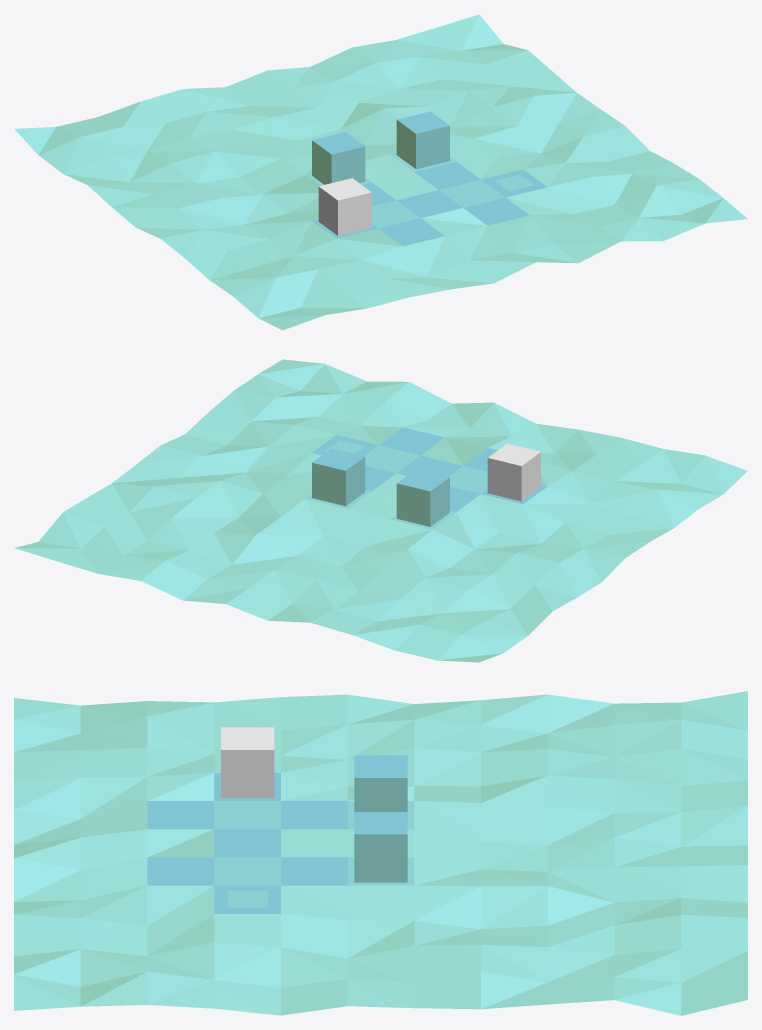
The model's file is Level76.dae.
3 views of the same model, one above another, from view 1: azimuth 30°, elevation 25°; view 2: azimuth 150°, elevation 25°; view 3: azimuth 270°, elevation 25° (orthographic). The views are drawn at different scales.
Visible parts, largest first — view 1: surface, Blocky, Enemy1, Enemy0; view 2: surface, Enemy0, Blocky, Enemy1; view 3: surface, Blocky, Enemy1, Enemy0.
Boxes of the visible parts, bbox=[...] form: surface: bbox=[14, 14, 747, 330]; Blocky: bbox=[318, 178, 371, 235]; Enemy1: bbox=[396, 111, 449, 169]; Enemy0: bbox=[312, 132, 365, 184]; surface: bbox=[14, 359, 747, 662]; Enemy0: bbox=[396, 469, 449, 526]; Blocky: bbox=[487, 443, 540, 501]; Enemy1: bbox=[312, 448, 365, 506]; surface: bbox=[14, 691, 747, 1015]; Blocky: bbox=[221, 727, 274, 798]; Enemy1: bbox=[354, 812, 407, 882]; Enemy0: bbox=[354, 755, 407, 811].
Size of the model in its own units: 11 by 11 by 1.1.
